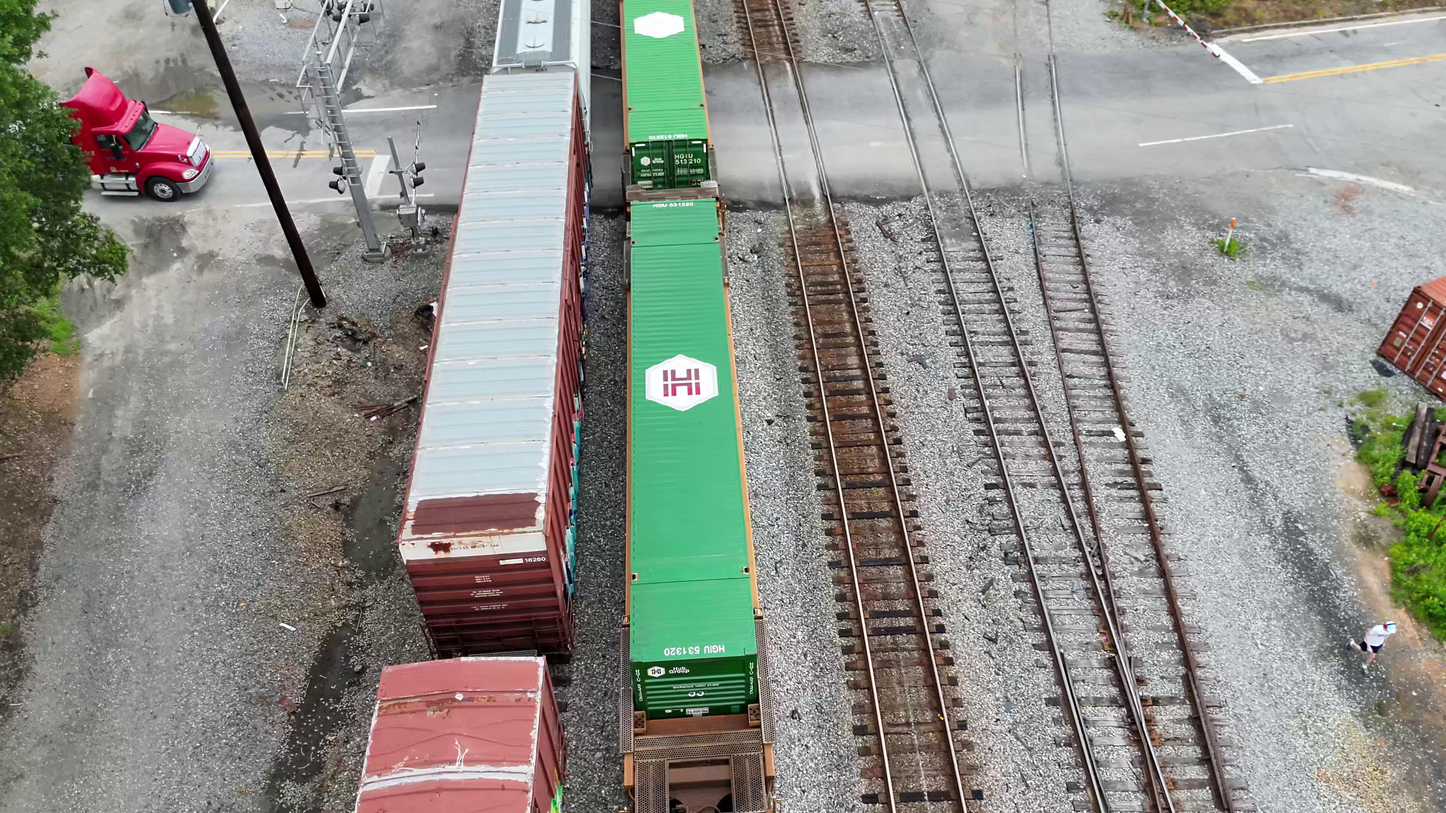human: (1346, 620, 1396, 675)
